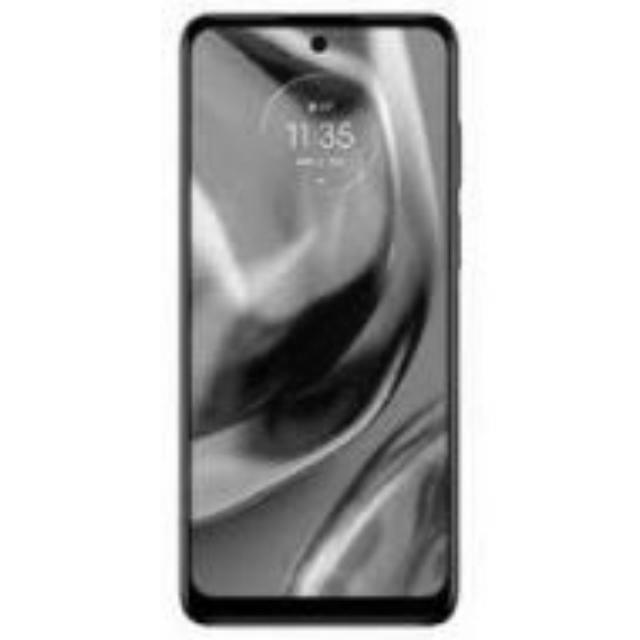fake: (174, 9, 468, 622)
